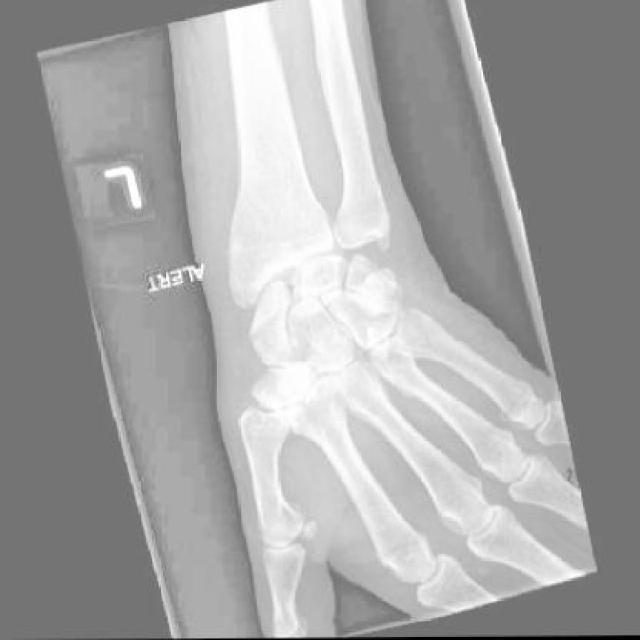Fracture: (351, 257, 407, 310)
